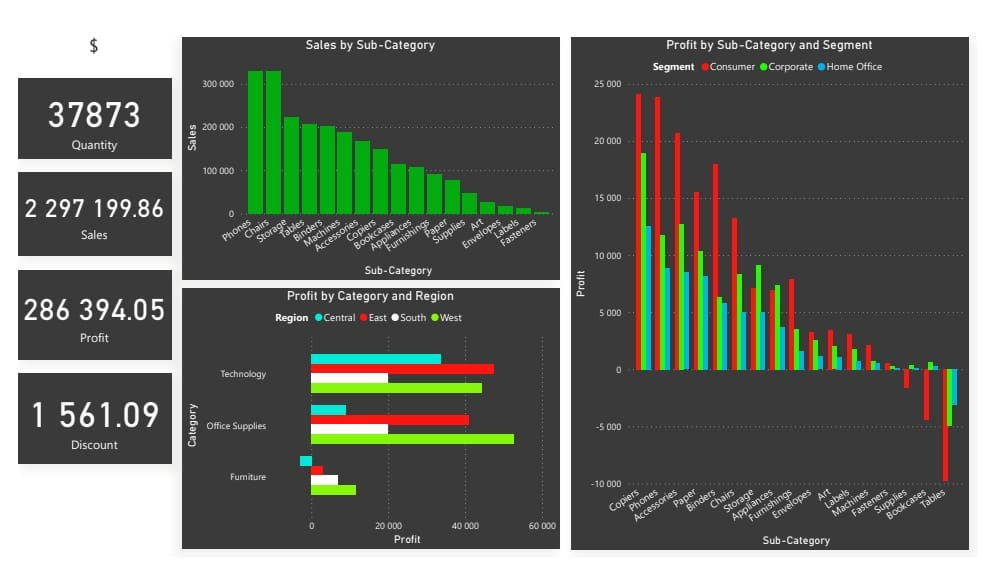

This screenshot's page, from the dashboard's own definition file:
{"tool":"powerbi","page":{"name":"Page 1","canvas":[1280,720],"ordinal":0},"visuals":[{"type":"clusteredColumnChart","fields":{"Y":["Sum(in.Sales)"],"Category":["in.Sub-Category"]},"box":[218.9,25.9,502.6,322.6],"z":1000},{"type":"clusteredColumnChart","fields":{"Category":["in.Sub-Category"],"Y":["Sum(in.Profit)"],"Series":["in.Segment"]},"box":[737.3,25.9,529.9,682.6],"z":2000},{"type":"clusteredBarChart","fields":{"Series":["in.Region"],"Y":["Sum(in.Profit)"],"Category":["in.Category"]},"box":[218.9,360,502.6,348.5],"z":3000},{"type":"card","fields":{"Values":["Sum(in.Sales)"]},"box":[0,205.9,204.5,110.9],"z":4000},{"type":"card","fields":{"Values":["Sum(in.Discount)"]},"box":[0,473.8,204.5,121],"z":5000},{"type":"card","fields":{"Values":["Sum(in.Profit)"]},"box":[0,335.5,204.5,119.5],"z":6000},{"type":"card","fields":{"Values":["Sum(Stores data.Quantity)"]},"box":[0,80.6,204.5,106.6],"z":6001},{"type":"textbox","box":[80.6,14.4,41.8,43.2],"z":6002}]}

Visuals, with their boxes in screenshot pixels (x1, y1, x2, y2), scaled from the page's 1280x720 canvas onto the 996x576 screenshot:
clusteredColumnChart - Sum(in.Sales) x in.Sub-Category: (170,21,561,279)
clusteredColumnChart - in.Sub-Category x Sum(in.Profit): (574,21,986,567)
clusteredBarChart - in.Region x Sum(in.Profit): (170,288,561,567)
card - Sum(in.Sales): (0,165,159,253)
card - Sum(in.Discount): (0,379,159,476)
card - Sum(in.Profit): (0,268,159,364)
card - Sum(Stores data.Quantity): (0,64,159,150)
textbox: (63,12,95,46)
